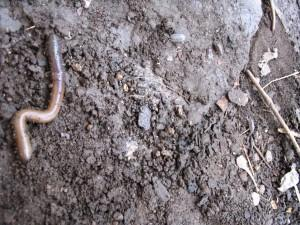earthworms: (14, 14, 80, 176)
